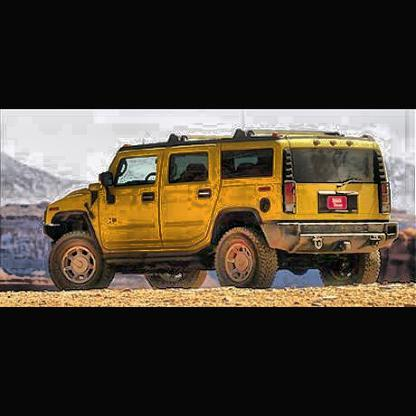AM General Hummer SUV 2000: (45, 131, 400, 291)
